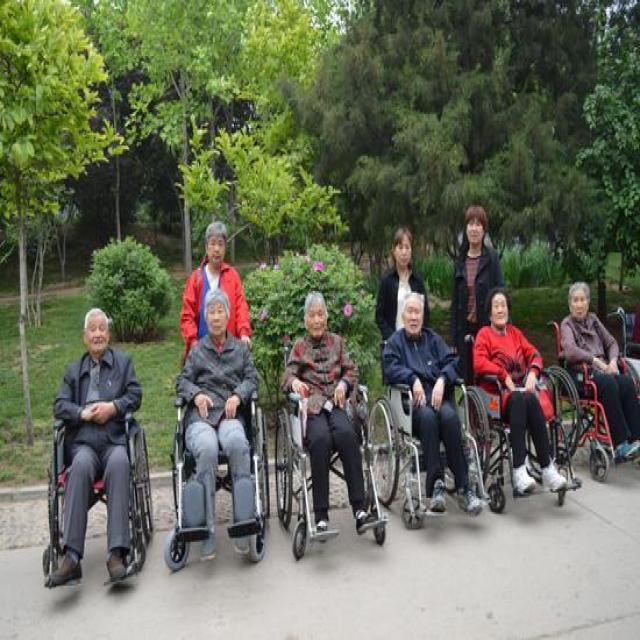wheelchairs: (33, 391, 156, 584), (273, 380, 398, 563), (161, 382, 271, 583), (373, 338, 478, 530), (458, 356, 578, 506), (543, 314, 640, 482)
